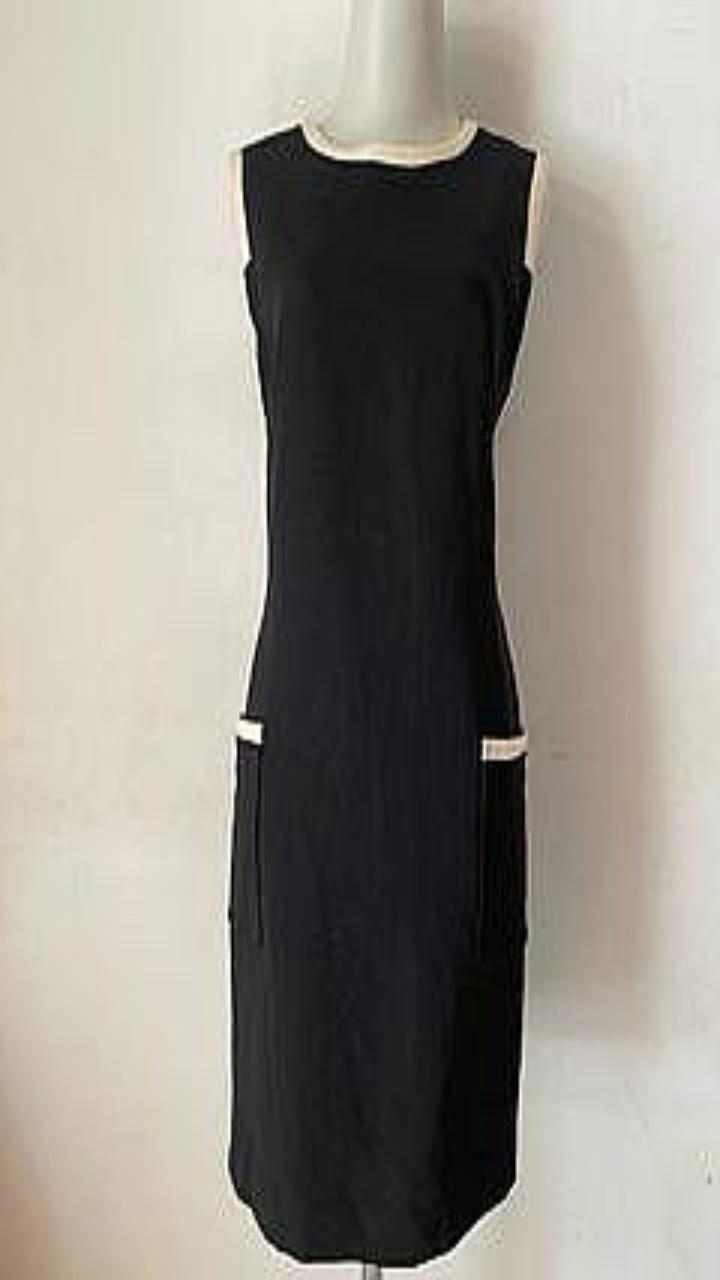Dresses: (228, 118, 536, 1265)
